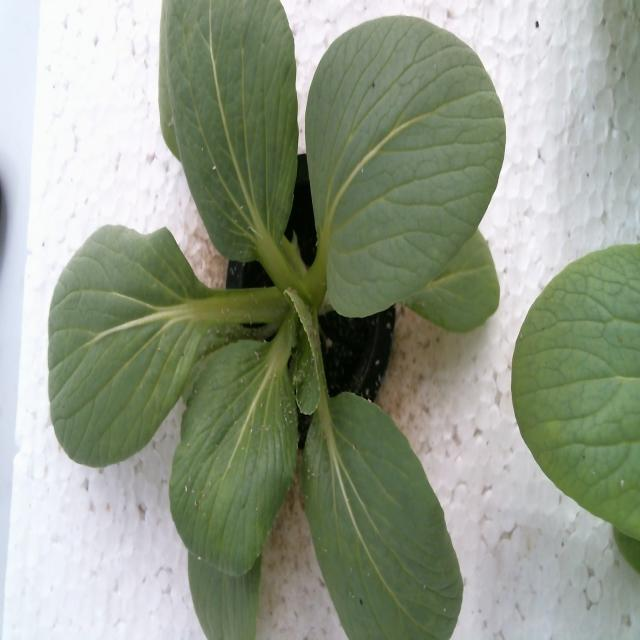pakcoy_tidak_sehat: (40, 0, 516, 637)
